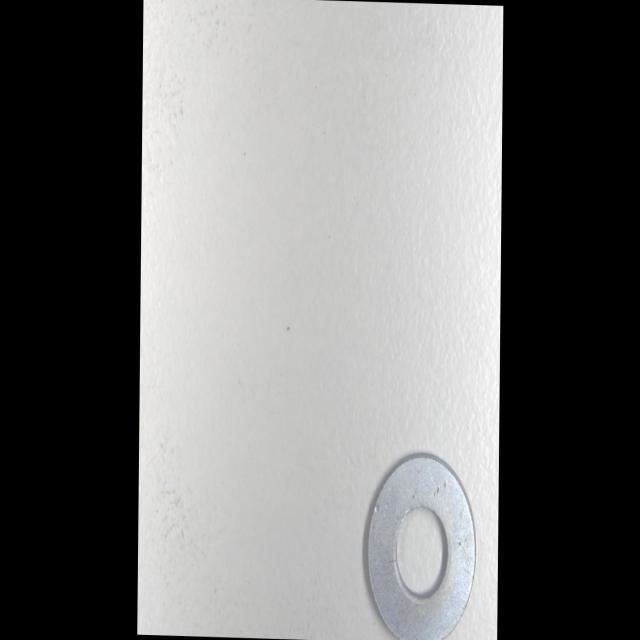washer: (361, 450, 475, 640)
